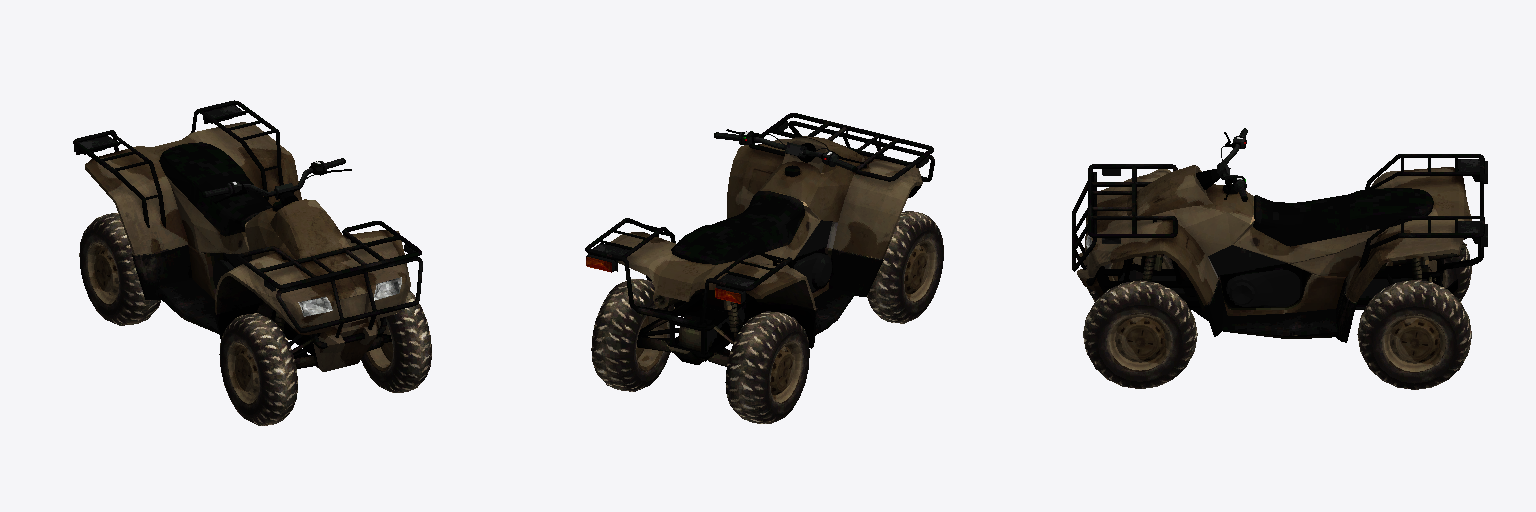
3 views of the same model, side by side, from view 1: azimuth 30°, elevation 25°; view 2: azimuth 150°, elevation 25°; view 3: azimuth 270°, elevation 25° (orthographic).
Visible parts, largest first — view 1: Quad; view 2: Quad; view 3: Quad.
Part boxes in pixels (left/top/right/bottom): Quad: left=73, top=100, right=431, bottom=425; Quad: left=585, top=113, right=943, bottom=423; Quad: left=1072, top=128, right=1487, bottom=389.
Bounding box in the file's own units: 58.07 × 61.11 × 117.
1 materials, 1 textured.